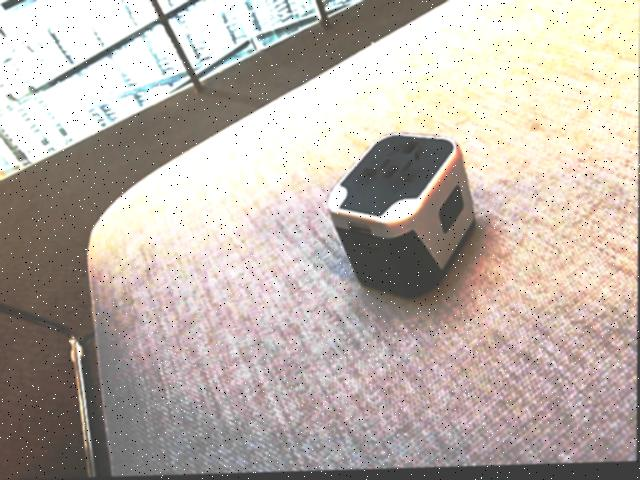adapter: (327, 132, 476, 303)
